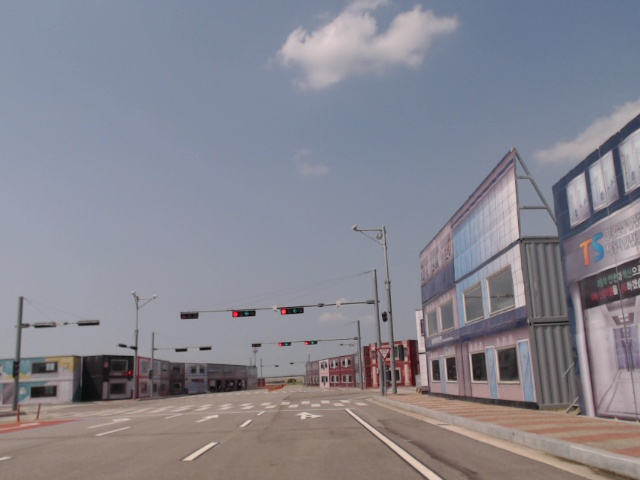left_green_4: (281, 308, 304, 314), (232, 311, 256, 316)
